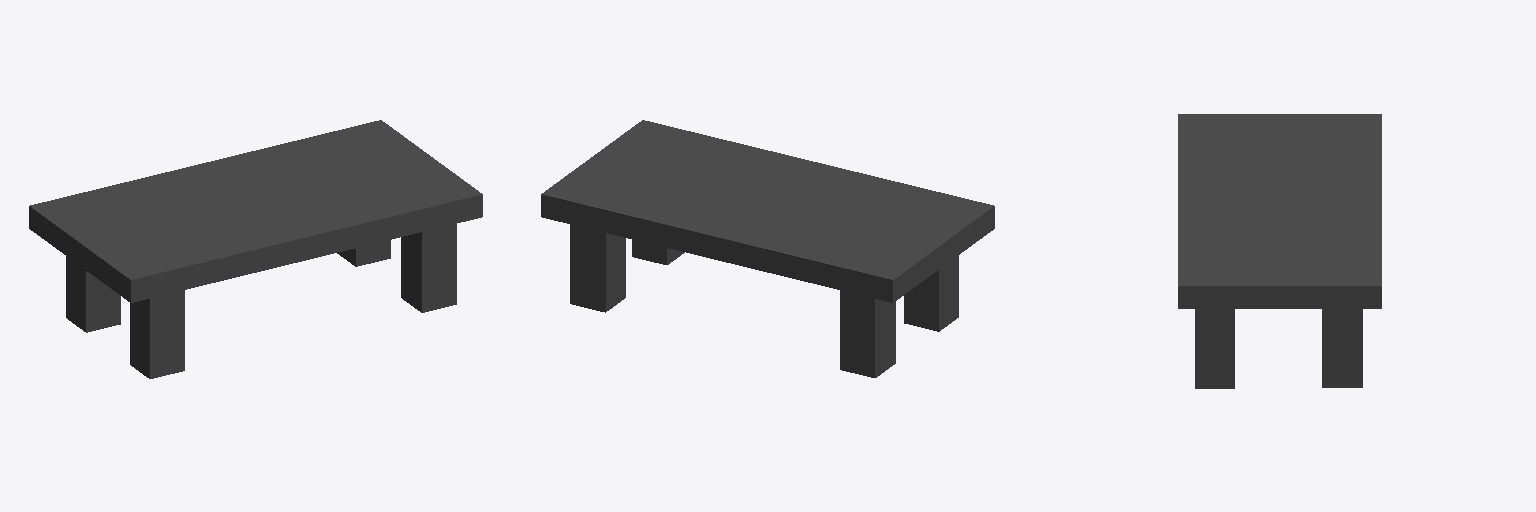
File: coffeeTable.obj
3 views of the same model, side by side, from view 1: azimuth 30°, elevation 25°; view 2: azimuth 150°, elevation 25°; view 3: azimuth 270°, elevation 25° (orthographic).
Visible parts, largest first — view 1: Box001, Box004, Box003, Box002, Box005; view 2: Box001, Box005, Box002, Box003, Box004; view 3: Box001, Box005, Box004.
Boxes of the visible parts, <box> form: Box001: <box>29,120,482,302</box>; Box004: <box>401,224,456,312</box>; Box003: <box>130,290,184,378</box>; Box002: <box>66,256,120,332</box>; Box005: <box>337,240,390,266</box>; Box001: <box>541,120,994,302</box>; Box005: <box>570,224,625,312</box>; Box002: <box>840,290,895,377</box>; Box003: <box>904,255,958,331</box>; Box004: <box>632,240,684,264</box>; Box001: <box>1178,114,1381,308</box>; Box005: <box>1322,309,1362,387</box>; Box004: <box>1195,309,1234,388</box>.
Size of the model in its own units: 80 by 24.32 by 40.